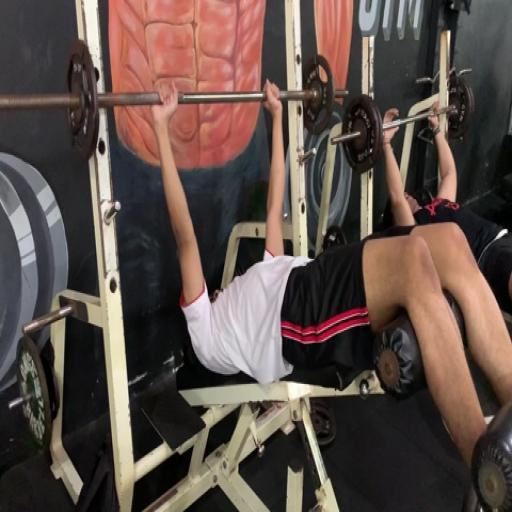exercise: (148, 76, 511, 510)
